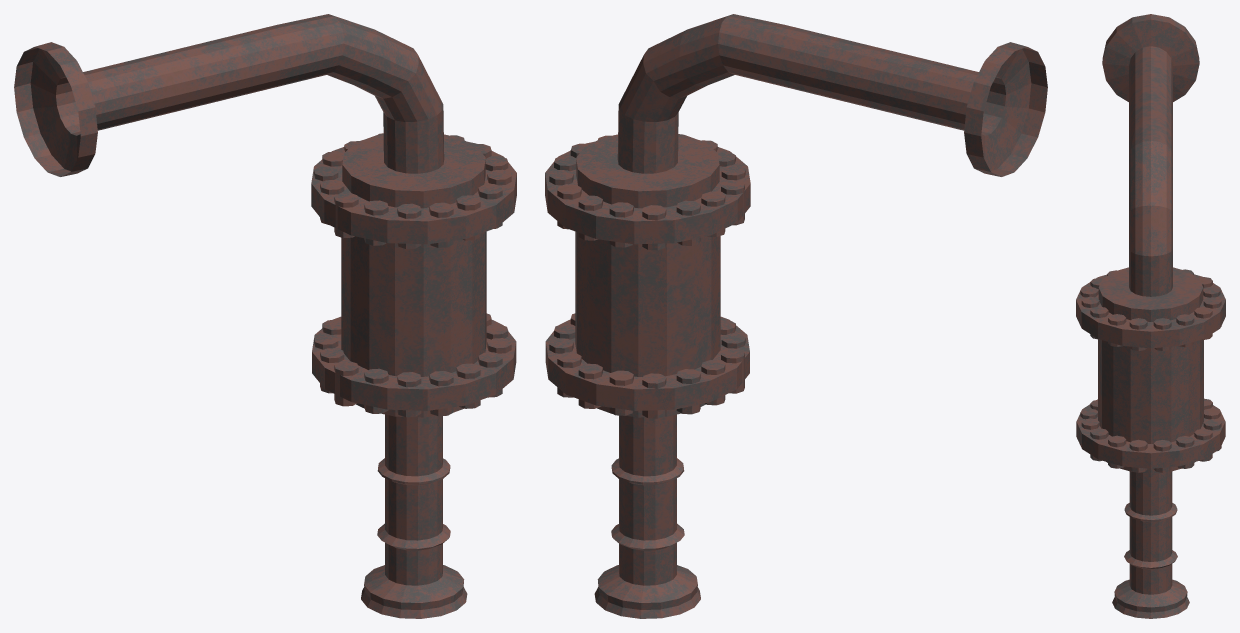
The model's file is Cano.fbx.
The picture shows the model from 3 angles, left to right: view 1: azimuth 30°, elevation 25°; view 2: azimuth 150°, elevation 25°; view 3: azimuth 270°, elevation 25°; orthographic projection. The views are drawn at different scales.
Parts seen in each view (by area): view 1: Cano; view 2: Cano; view 3: Cano.
Boxes of the visible parts, x1,y1,x2,y2 form: Cano: (14, 14, 516, 618); Cano: (545, 14, 1047, 618); Cano: (1076, 14, 1225, 618).
Size of the model in its own units: 768 by 1022 by 302.
